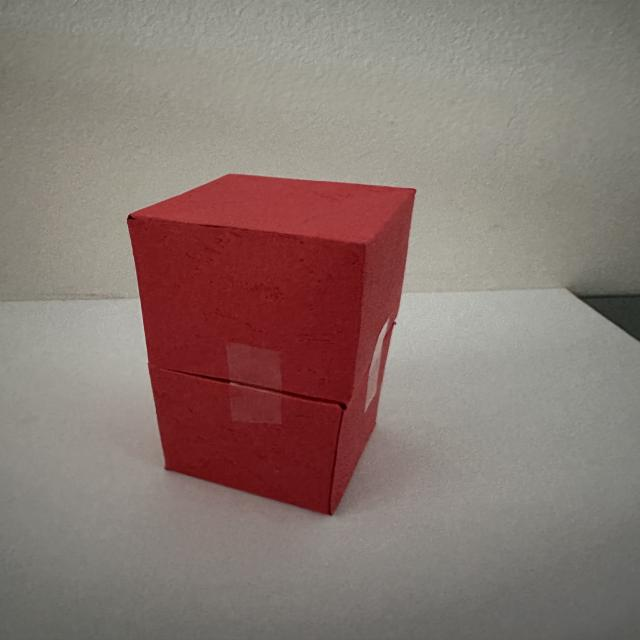red_cube: (118, 159, 438, 542)
